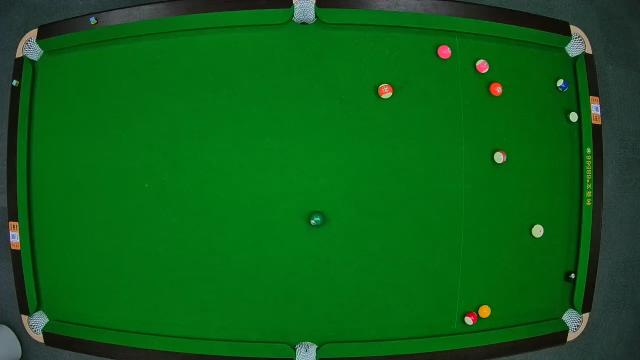bag1: (22, 38, 44, 60)
bag2: (291, 0, 317, 26)
bag3: (566, 29, 588, 57)
bag4: (29, 310, 49, 334)
bag5: (294, 340, 318, 360)
bag6: (563, 308, 585, 332)
ball0: (532, 224, 544, 238)
ball1: (480, 304, 492, 318)
ball10: (557, 79, 571, 93)
ball11: (463, 311, 479, 325)
ball12: (476, 58, 488, 74)
ball13: (378, 83, 394, 99)
ball14: (566, 109, 578, 123)
ball15: (494, 150, 506, 164)
ball4: (437, 44, 453, 60)
ball5: (490, 82, 502, 96)
ball6: (309, 212, 325, 228)
ball8: (562, 270, 578, 284)
